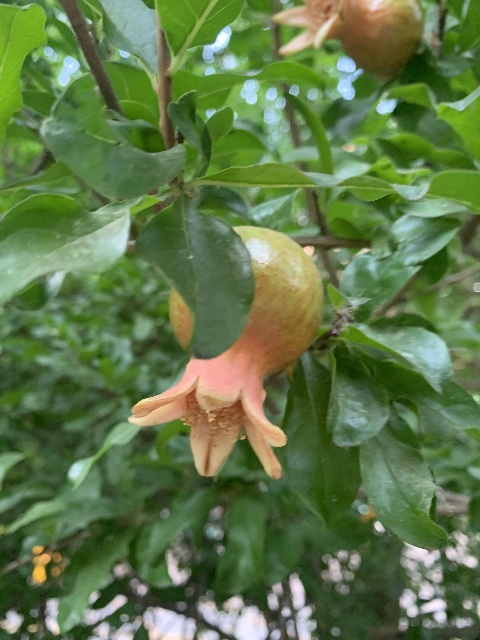early-fruit: (127, 227, 323, 481), (272, 0, 422, 78)
